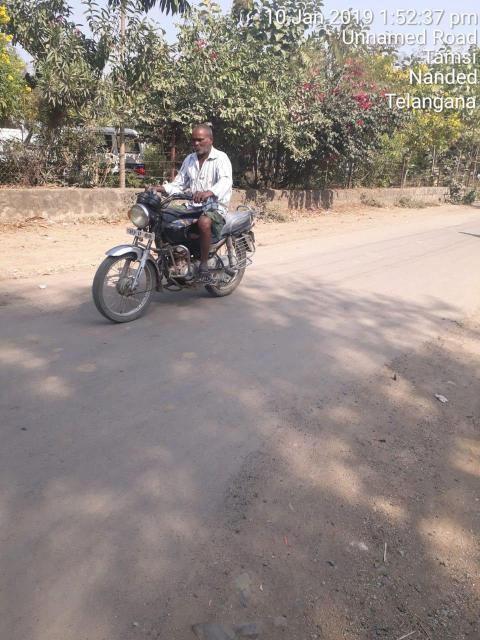motor: (93, 194, 255, 324), (193, 125, 214, 155)
